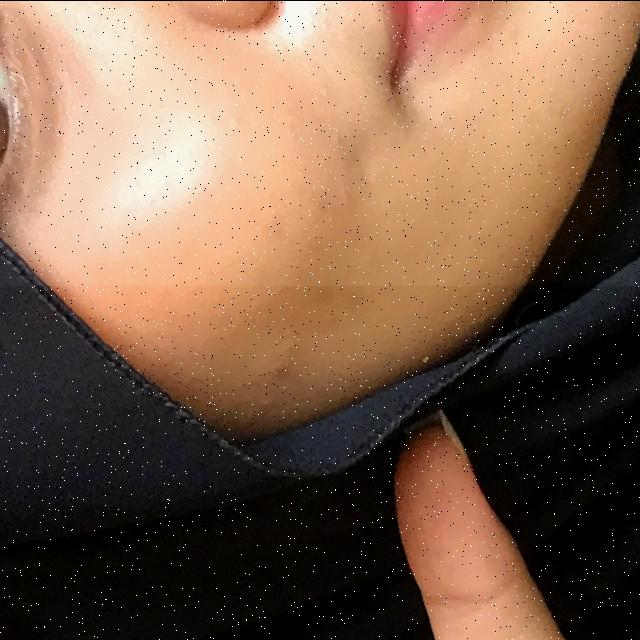mendengar: (0, 285, 640, 640)
